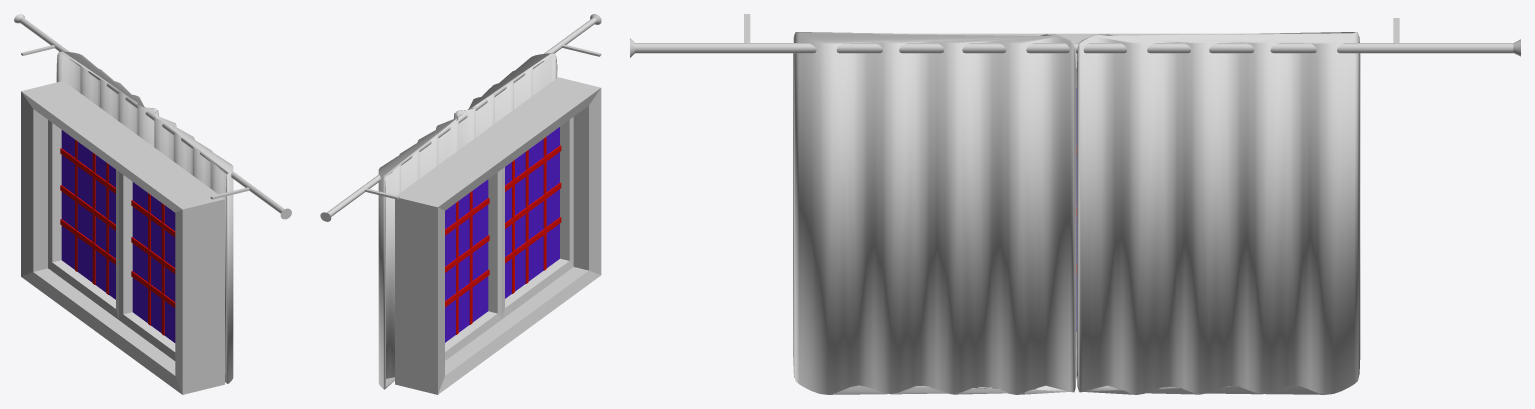
The model's file is Window.fbx.
3 views of the same model, side by side, from view 1: azimuth 30°, elevation 25°; view 2: azimuth 150°, elevation 25°; view 3: azimuth 270°, elevation 25° (orthographic). The views are drawn at different scales.
Visible parts, largest first — view 1: Frame, RightWindow, LeftWindow, Curtain Left, CurtainRight, CurtainsHolder; view 2: Frame, LeftWindow, RightWindow, CurtainRight, Curtain Left, CurtainsHolder; view 3: Curtain Left, CurtainRight, CurtainsHolder, Frame.
Boxes of the visible parts, left/top/right/bottom form: Frame: left=21, top=81, right=224, bottom=394; RightWindow: left=48, top=120, right=118, bottom=319; LeftWindow: left=119, top=172, right=175, bottom=360; Curtain Left: left=154, top=110, right=233, bottom=383; CurtainRight: left=56, top=51, right=156, bottom=146; CurtainsHolder: left=14, top=14, right=291, bottom=219; Frame: left=395, top=77, right=601, bottom=394; LeftWindow: left=502, top=117, right=573, bottom=318; RightWindow: left=445, top=169, right=501, bottom=360; CurtainRight: left=378, top=113, right=458, bottom=389; Curtain Left: left=456, top=53, right=557, bottom=149; CurtainsHolder: left=320, top=14, right=601, bottom=221; Curtain Left: left=793, top=32, right=1076, bottom=394; CurtainRight: left=1077, top=32, right=1360, bottom=394; CurtainsHolder: left=630, top=14, right=1520, bottom=57; Frame: left=794, top=33, right=1239, bottom=377.
Bounding box in the file's own units: 161 × 534 × 1223.
